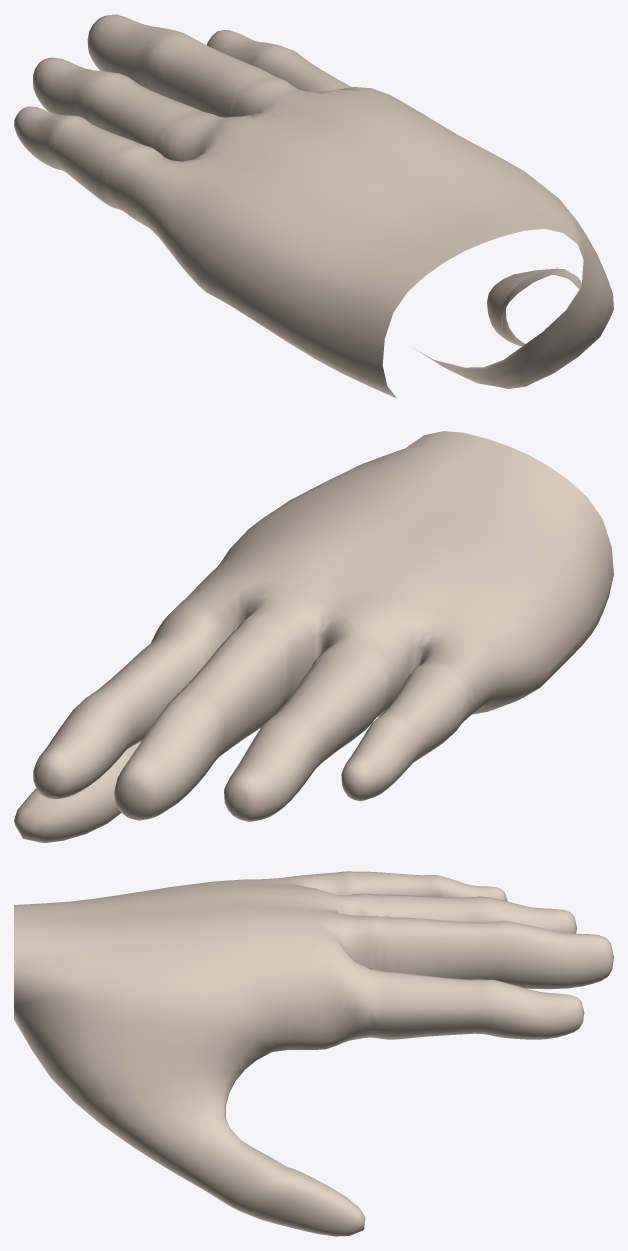
3 renders of one model, top to bottom at view 1: azimuth 30°, elevation 25°; view 2: azimuth 150°, elevation 25°; view 3: azimuth 270°, elevation 25°, orthographic. The views are drawn at different scales.
Visible parts, largest first — view 1: best_highpoly_hand; view 2: best_highpoly_hand; view 3: best_highpoly_hand.
Part boxes in pixels (x1=…): best_highpoly_hand: x1=14, y1=14, x2=613, y2=398; best_highpoly_hand: x1=14, y1=431, x2=613, y2=842; best_highpoly_hand: x1=14, y1=871, x2=613, y2=1236.
Bounding box in the file's own units: 0.9948 × 0.6467 × 1.48.
